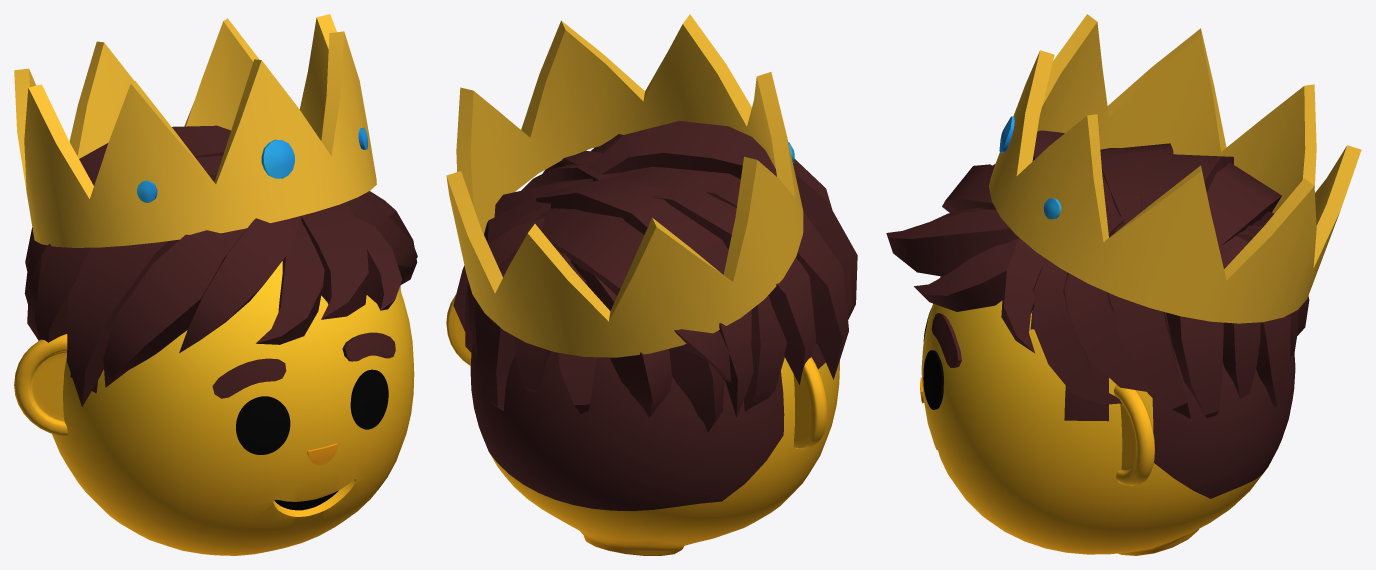
The model's file is prince.glb.
The picture shows the model from 3 angles, left to right: view 1: azimuth 30°, elevation 25°; view 2: azimuth 150°, elevation 25°; view 3: azimuth 270°, elevation 25°; orthographic projection. The views are drawn at different scales.
Parts seen in each view (by area): view 1: Roundcube.161, Circle.835, Cube.2043, Circle.832, Cylinder.133, Circle.834; view 2: Circle.835, Cube.2043, Roundcube.161, Cylinder.133; view 3: Circle.835, Roundcube.161, Cube.2043, Cylinder.133, Circle.832, Circle.834.
Boxes of the visible parts, left/top/right/bottom form: Roundcube.161: left=52, top=261, right=414, bottom=555; Circle.835: left=14, top=14, right=376, bottom=247; Cube.2043: left=24, top=125, right=417, bottom=406; Circle.832: left=236, top=369, right=388, bottom=454; Cylinder.133: left=14, top=285, right=400, bottom=436; Circle.834: left=212, top=332, right=395, bottom=398; Circle.835: left=446, top=14, right=803, bottom=357; Cube.2043: left=453, top=121, right=857, bottom=432; Roundcube.161: left=470, top=342, right=839, bottom=555; Cylinder.133: left=446, top=295, right=827, bottom=449; Circle.835: left=989, top=14, right=1361, bottom=323; Roundcube.161: left=921, top=293, right=1295, bottom=555; Cube.2043: left=886, top=130, right=1309, bottom=418; Cylinder.133: left=1114, top=384, right=1154, bottom=486; Circle.832: left=923, top=308, right=943, bottom=409; Circle.834: left=931, top=276, right=961, bottom=367.
Size of the model in its own units: 1.76 by 2.21 by 1.93.
2 materials, 2 textured.
